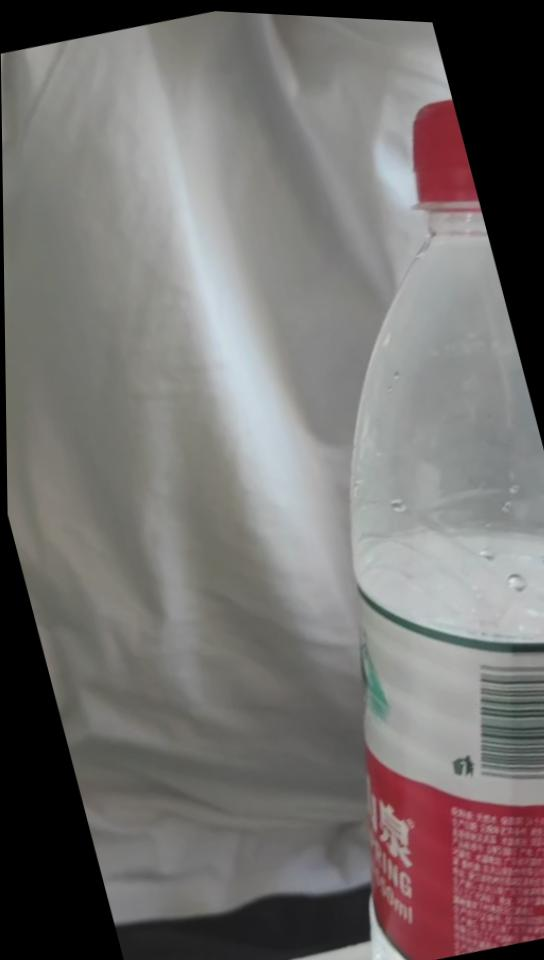plastic: (351, 100, 543, 959)
